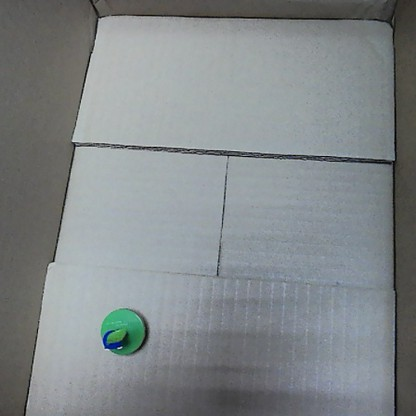leafairy: (97, 307, 150, 356)
